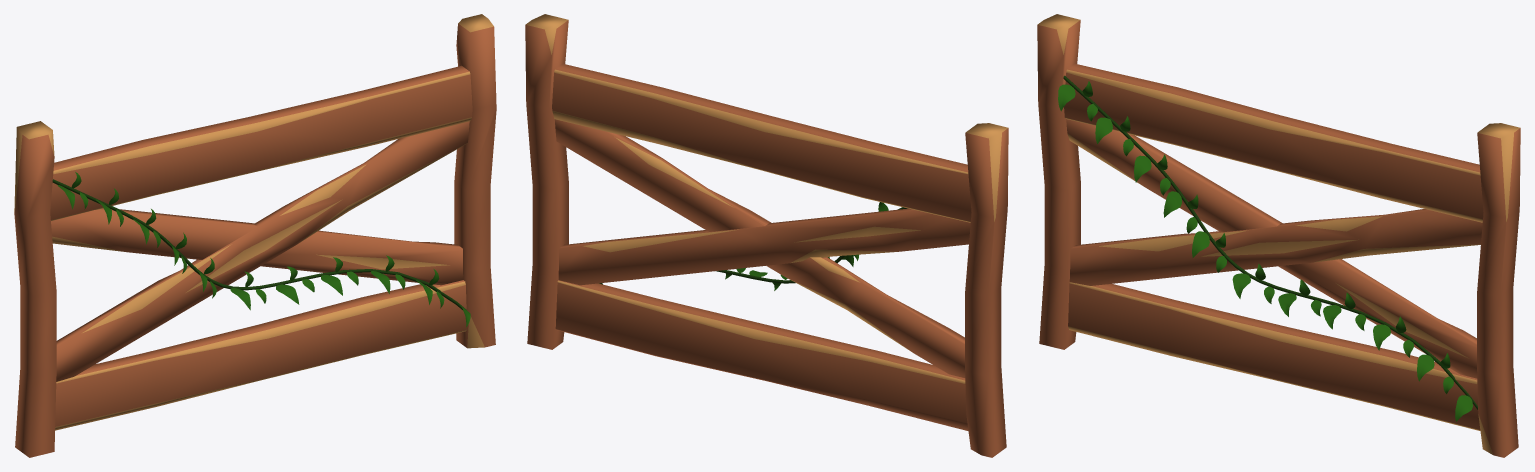
Rendered from ivyfence.fbx.
3 views of the same model, side by side, from view 1: azimuth 30°, elevation 25°; view 2: azimuth 150°, elevation 25°; view 3: azimuth 330°, elevation 25° (orthographic).
Parts seen in each view (by area): view 1: ivyfence; view 2: ivyfence; view 3: ivyfence.
Boxes of the visible parts, box(x1,y1,x2,y2) form: ivyfence: box(14, 14, 496, 457); ivyfence: box(525, 14, 1008, 457); ivyfence: box(1037, 14, 1520, 457).
Size of the model in its own units: 0.6198 by 0.4033 by 0.0599.
